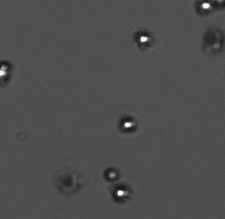Dead Cell: (54, 167, 82, 195), (203, 28, 222, 54)
Living Cell: (115, 113, 140, 135), (112, 183, 132, 203), (101, 165, 123, 183), (134, 28, 153, 48), (1, 62, 12, 87), (195, 1, 214, 14)
